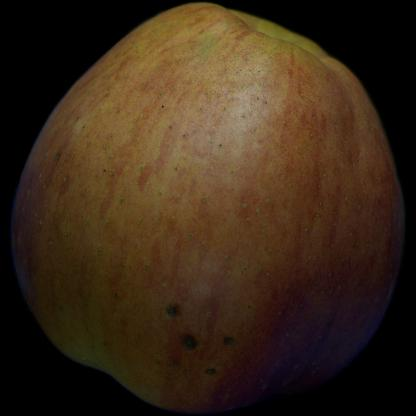defect: (123, 279, 279, 389)
